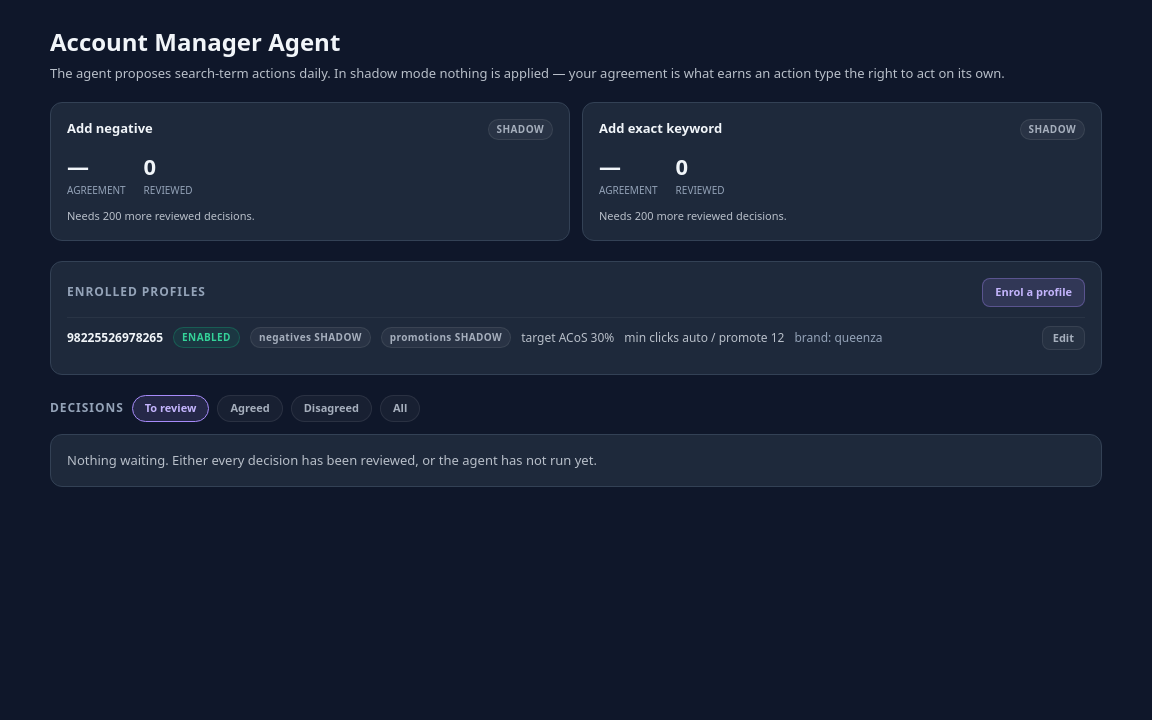
Test: AgentPanel edit form › carries a pinned promotion floor into the form
The width and height of the screenshot is (1152, 720).
Expected: the text "98225526978265" is shown, [67,329,163,347]
Step 1. Click the button "Edit" → [1063, 338], box [1042,326,1085,350]
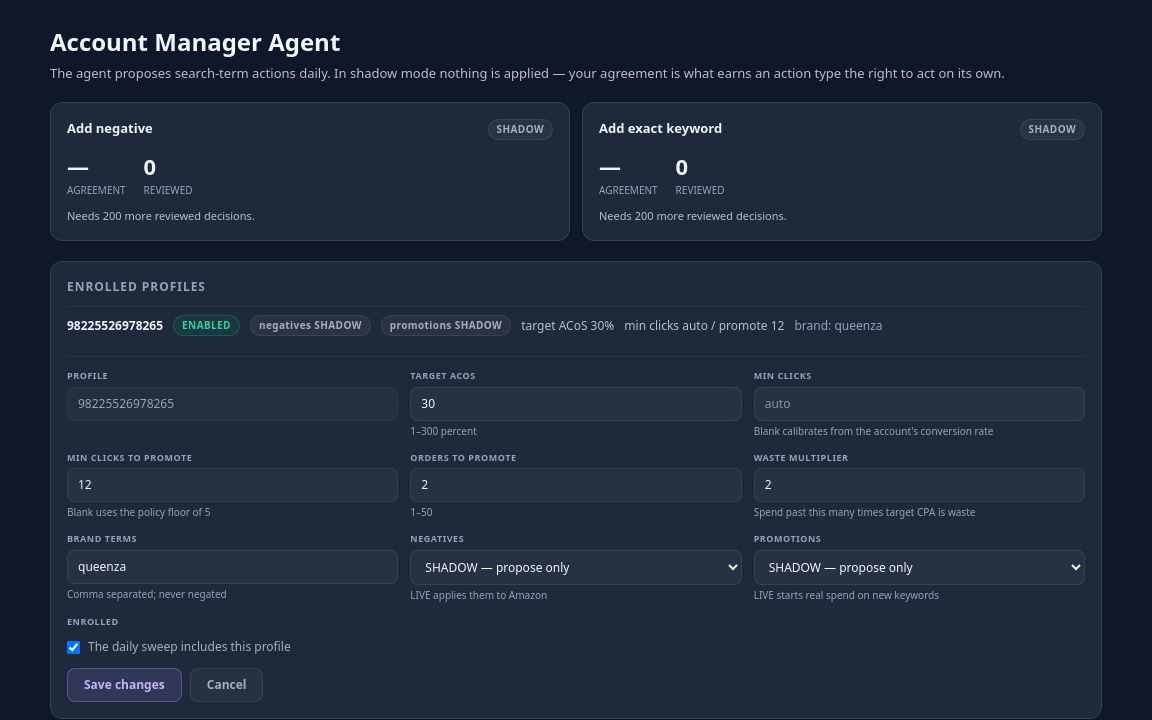
Expected: the number field with placeholder "5" holds "12", [67,468,398,502]
